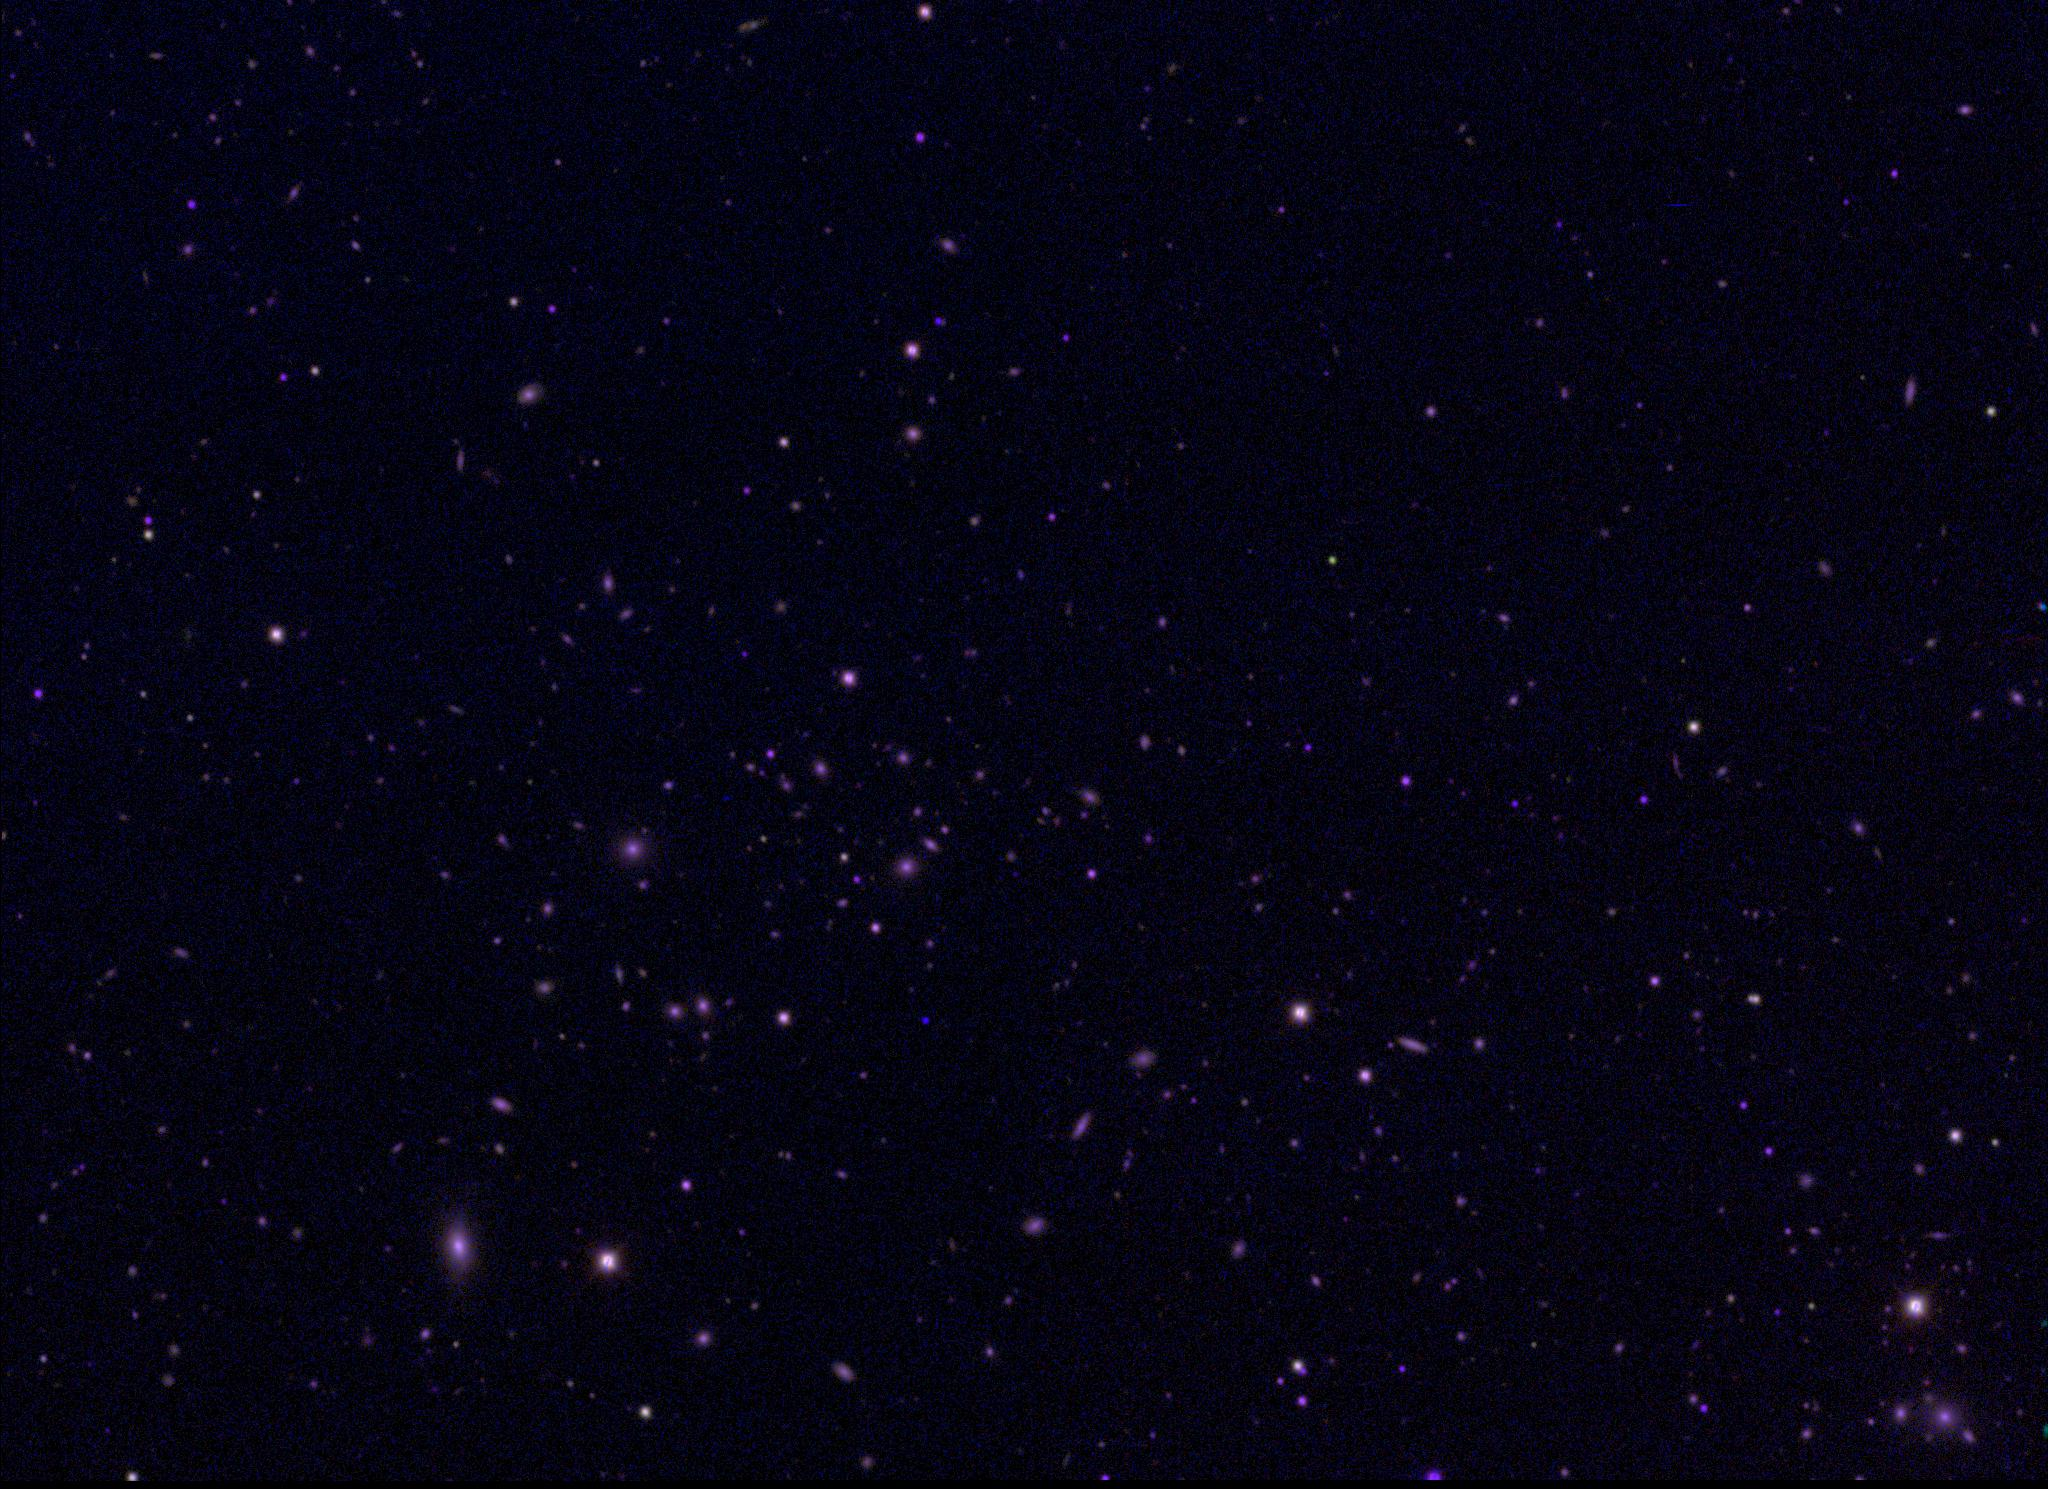L: (919, 1013, 933, 1028)
